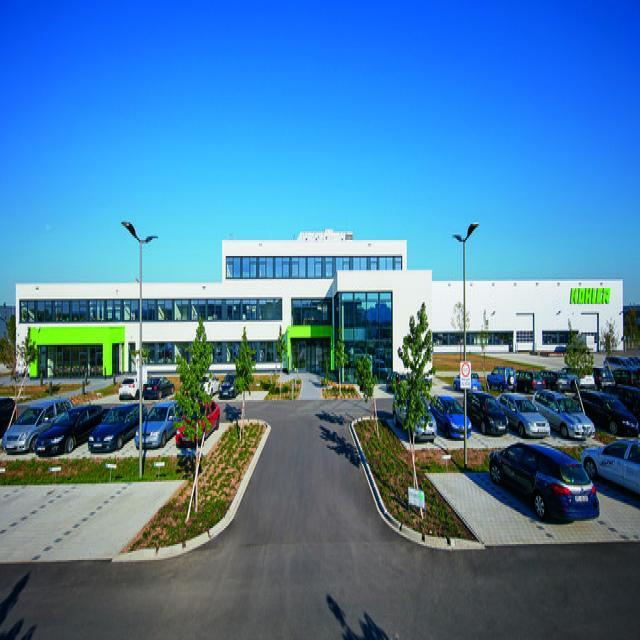Kohler: (567, 281, 612, 307)
